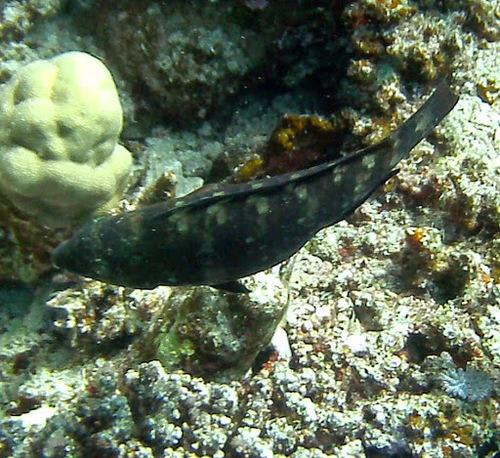Serranidae -Groupers-: (46, 72, 459, 294)
